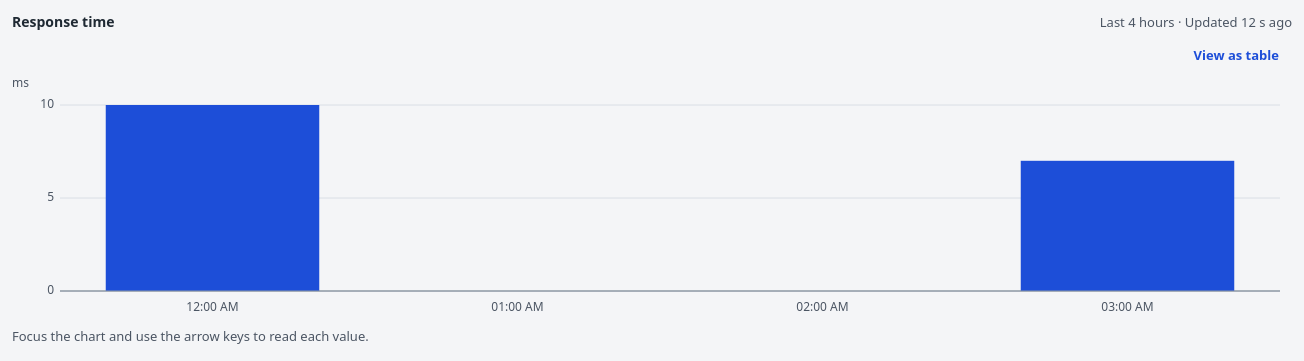
Test case: BarChart › has a table view
Click the button "View as table": (1236, 55) [1181, 39, 1292, 71]
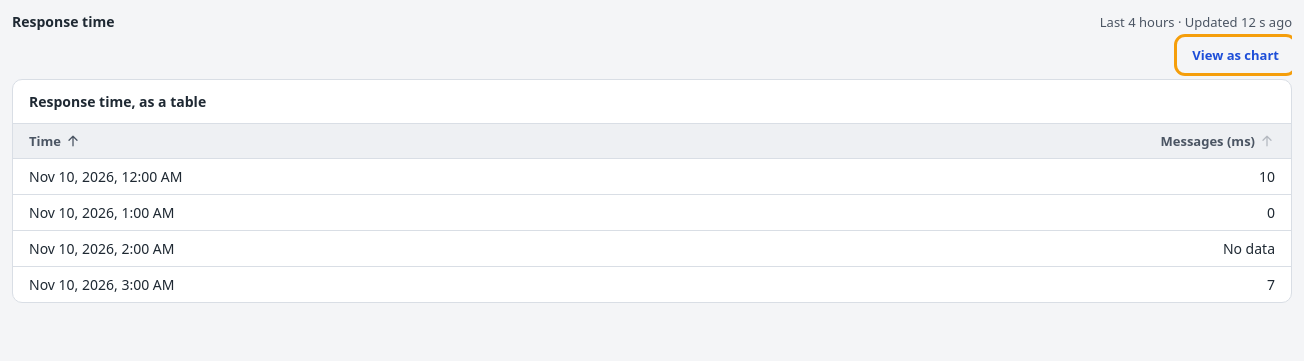
Expected: the table "Response time, as a table" is shown
